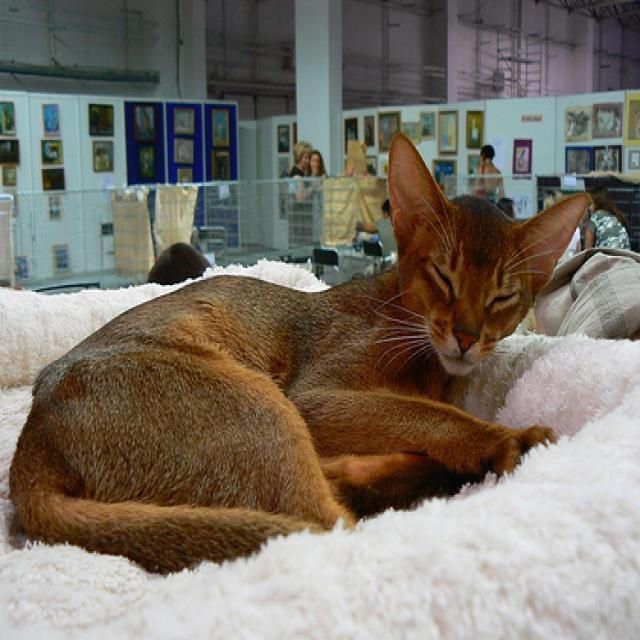Abyssinian: (387, 131, 588, 372)
